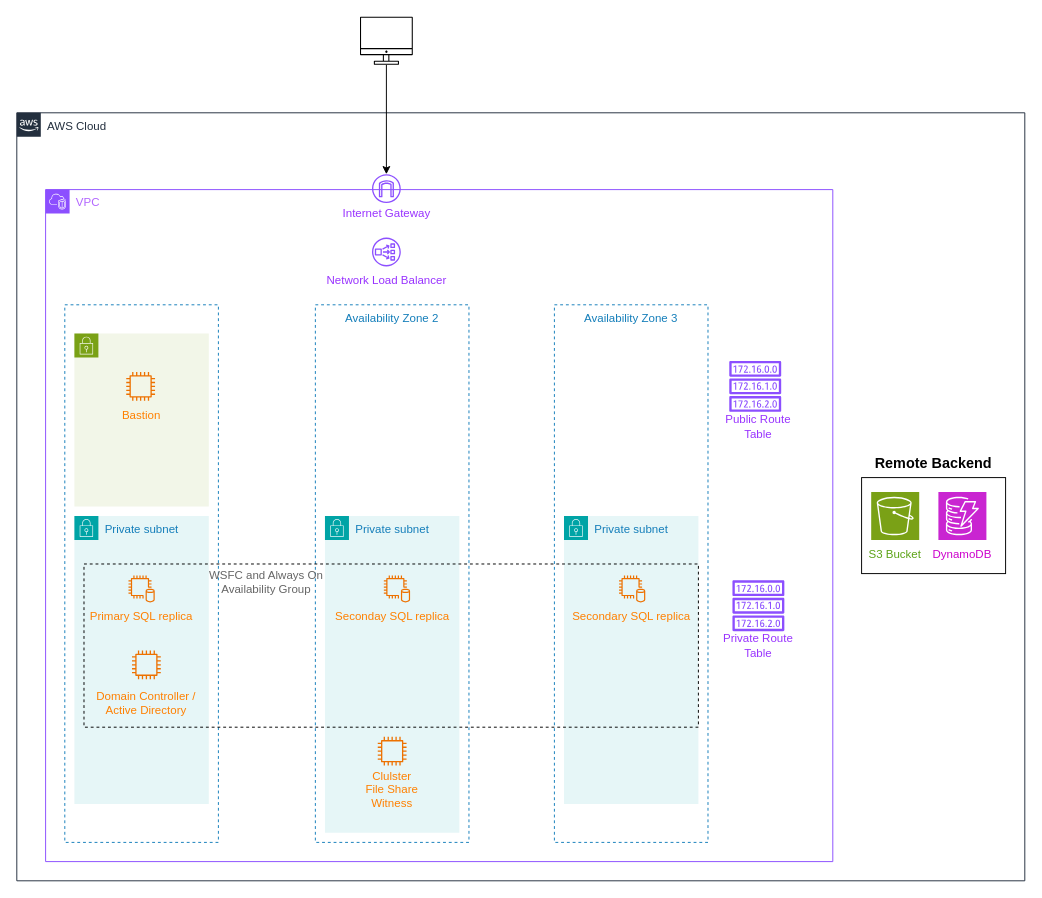
This 1042x898 diagram has some shape labels left out. Each missing label, with the box of its shape:
Availability Zone 1: (64, 304, 218, 842)
Public subnet: (73, 333, 209, 506)
Remote Management: (360, 16, 412, 64)
